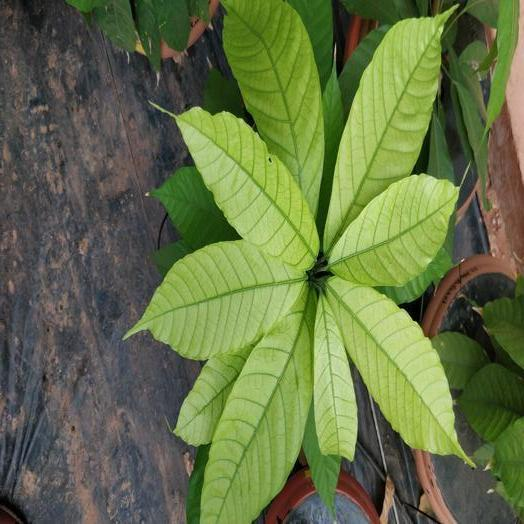Healthy Leaf: (150, 167, 238, 249), (458, 364, 523, 441), (432, 332, 488, 388), (483, 298, 523, 368)
Iron: (324, 10, 451, 253), (326, 277, 471, 463), (202, 292, 312, 523), (177, 108, 318, 273), (124, 240, 304, 359), (224, 0, 323, 214), (328, 174, 457, 286), (176, 346, 252, 445), (314, 292, 356, 458)
